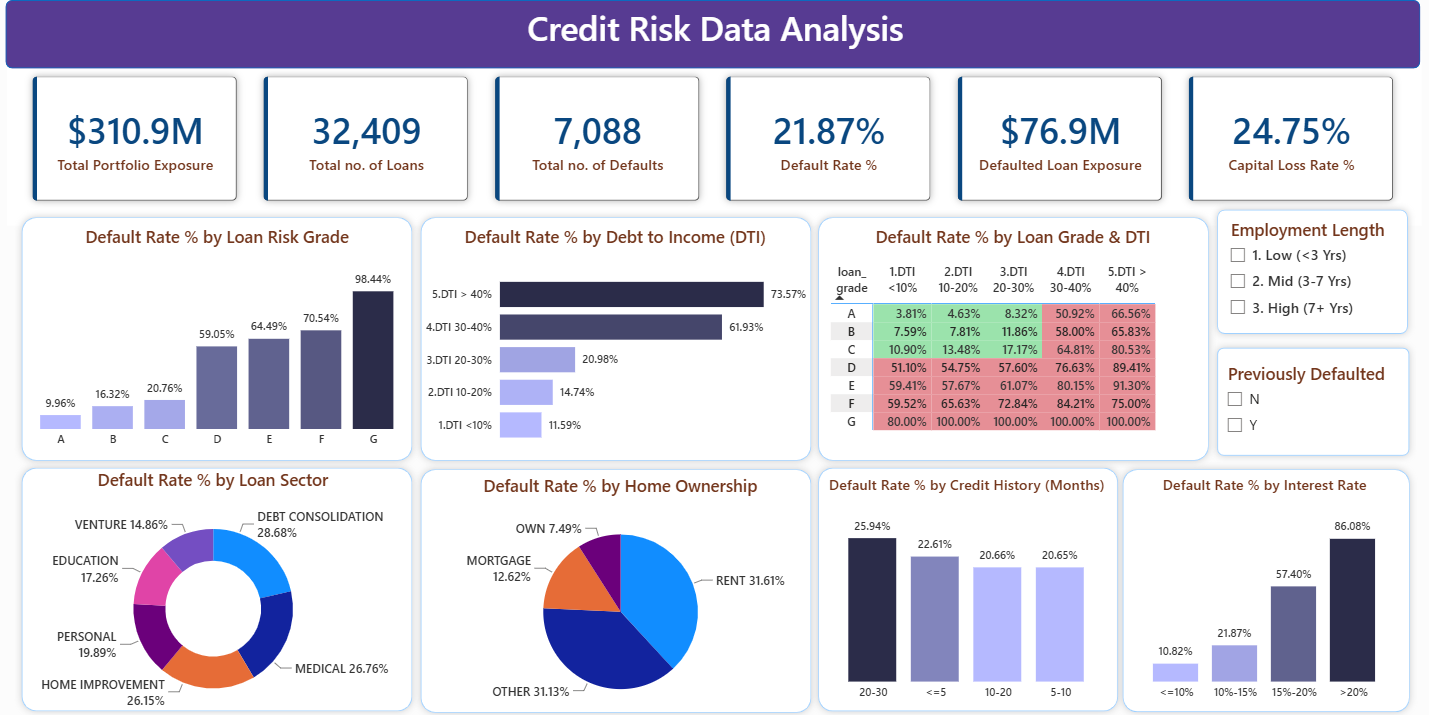

This screenshot's page, from the dashboard's own definition file:
{"tool":"powerbi","page":{"name":"Risk Analysis","canvas":[1600,800],"ordinal":0},"visuals":[{"type":"shape","box":[906.6,511.5,349.2,286.9],"z":0},{"type":"shape","box":[465,513.5,450,286.7],"z":1000},{"type":"shape","box":[21.7,511.8,450,286.7],"z":2000},{"type":"shape","box":[1244.3,513.1,335,286],"z":3000},{"type":"cardVisual","fields":{"Data":["_Measures.Total Portfolio Exposure","_Measures.Total Borrowers","_Measures.Total Defaults","_Measures.Default Rate %","_Measures.Total Defaulted Loan Exposure","_Measures.Capital Loss Rate %"]},"box":[13.8,56.9,1572,194],"z":4000},{"type":"shape","box":[21.7,233.3,450,286.7],"z":5000},{"type":"clusteredColumnChart","title":"Default Rate % by Loan Risk Grade","fields":{"Category":["credit_risk_clean.loan_grade"],"Y":["_Measures.Default Rate %"]},"box":[21.7,250,450,256.7],"z":6000},{"type":"shape","box":[1350.8,224.6,227.9,154.1],"z":7000},{"type":"shape","box":[1349.2,378.7,229.5,136.1],"z":8000},{"type":"slicer","fields":{"Values":["credit_risk_clean.Emp Length Bucket"]},"box":[1360.7,236.1,206.6,141],"z":9000},{"type":"shape","box":[906.7,233.3,450,286.7],"z":10000},{"type":"pivotTable","title":"Default Rate % by Loan Grade & DTI","fields":{"Columns":["credit_risk_clean.DTI Bucket"],"Rows":["credit_risk_clean.loan_grade"],"Values":["_Measures.Default Rate %"]},"box":[923.5,250.7,415.6,257.1],"z":11000},{"type":"shape","box":[464.2,233.3,450,286.7],"z":12000},{"type":"barChart","title":"Default Rate % by Debt to Income (DTI)","fields":{"Category":["credit_risk_clean.DTI Bucket"],"Y":["_Measures.Default Rate %"]},"box":[471.7,250,435,256.7],"z":13000},{"type":"shape","box":[12,0,1572,76],"z":14000},{"type":"textbox","box":[561.3,0,477.4,82],"z":15000},{"type":"donutChart","title":"Default Rate % by Loan Sector","fields":{"Category":["credit_risk_clean.loan_intent"],"Y":["_Measures.Default Rate %"]},"box":[19.7,519.7,444.3,277],"z":16000},{"type":"pieChart","title":"Default Rate % by Home Ownership","fields":{"Category":["credit_risk_clean.person_home_ownership"],"Y":["_Measures.Default Rate %"]},"box":[483.6,526.2,423,270.5],"z":17000},{"type":"slicer","fields":{"Values":["credit_risk_clean.cb_person_default_on_file"]},"box":[1357.4,396.7,224.6,100],"z":18000},{"type":"columnChart","title":"Default Rate % by Interest Rate","fields":{"Category":["credit_risk_clean.Loan Interest Bucket"],"Y":["_Measures.Default Rate %"]},"box":[1255.7,526.2,311.5,260.7],"z":19000},{"type":"columnChart","title":"Default Rate % by Credit History (Months)","fields":{"Category":["credit_risk_clean.Credit History Bucket"],"Y":["_Measures.Default Rate %"]},"box":[914.8,526.2,329.5,260.7],"z":20000}]}

Visuals, with their boxes in screenshot pixels (x1, y1, x2, y2), scaled from the page's 1600x800 canvas onto the 1429x715 screenshot:
shape: (810, 457, 1122, 714)
shape: (415, 459, 817, 714)
shape: (19, 457, 421, 714)
shape: (1111, 459, 1411, 714)
cardVisual - _Measures.Total Portfolio Exposure x _Measures.Total Borrowers: (12, 51, 1416, 224)
shape: (19, 209, 421, 465)
"Default Rate % by Loan Risk Grade" clusteredColumnChart: (19, 223, 421, 453)
shape: (1206, 201, 1410, 338)
shape: (1205, 338, 1410, 460)
slicer - credit_risk_clean.Emp Length Bucket: (1215, 211, 1400, 337)
shape: (810, 209, 1212, 465)
"Default Rate % by Loan Grade & DTI" pivotTable: (825, 224, 1196, 454)
shape: (415, 209, 816, 465)
"Default Rate % by Debt to Income (DTI)" barChart: (421, 223, 810, 453)
shape: (11, 0, 1415, 68)
textbox: (501, 0, 928, 73)
"Default Rate % by Loan Sector" donutChart: (18, 464, 414, 712)
"Default Rate % by Home Ownership" pieChart: (432, 470, 810, 712)
slicer - credit_risk_clean.cb_person_default_on_file: (1212, 355, 1413, 444)
"Default Rate % by Interest Rate" columnChart: (1121, 470, 1400, 703)
"Default Rate % by Credit History (Months)" columnChart: (817, 470, 1111, 703)
